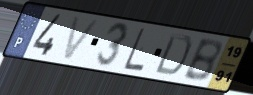3: (94, 20, 131, 71)
4: (31, 13, 65, 57)
B: (180, 38, 223, 84)
D: (152, 32, 194, 78)
L: (122, 26, 146, 73)
V: (60, 15, 103, 63)
